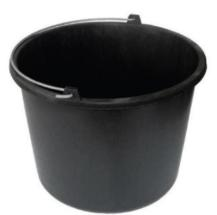SEAU: (0, 6, 208, 210)
